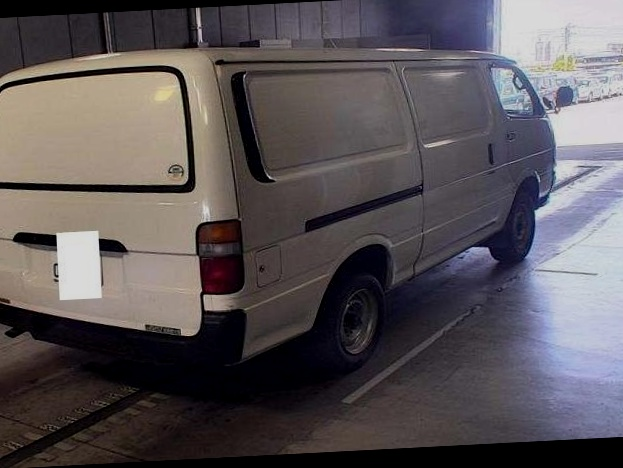van: (0, 32, 571, 378)
